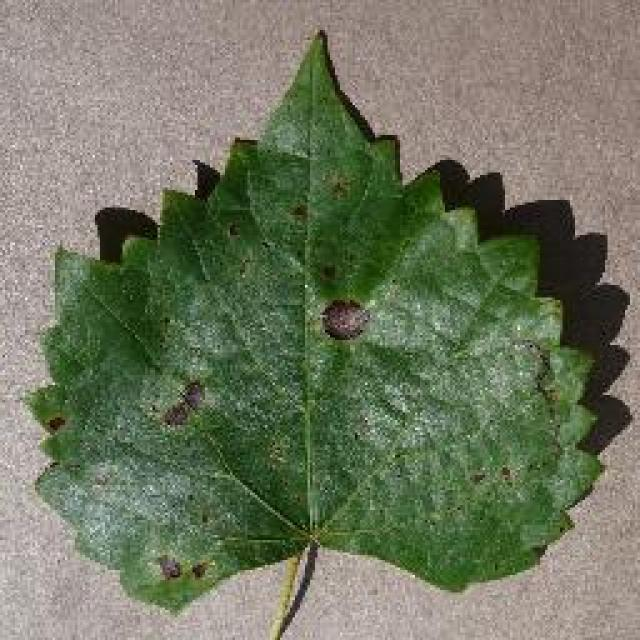Grape___Black_rot: (9, 26, 612, 622)
